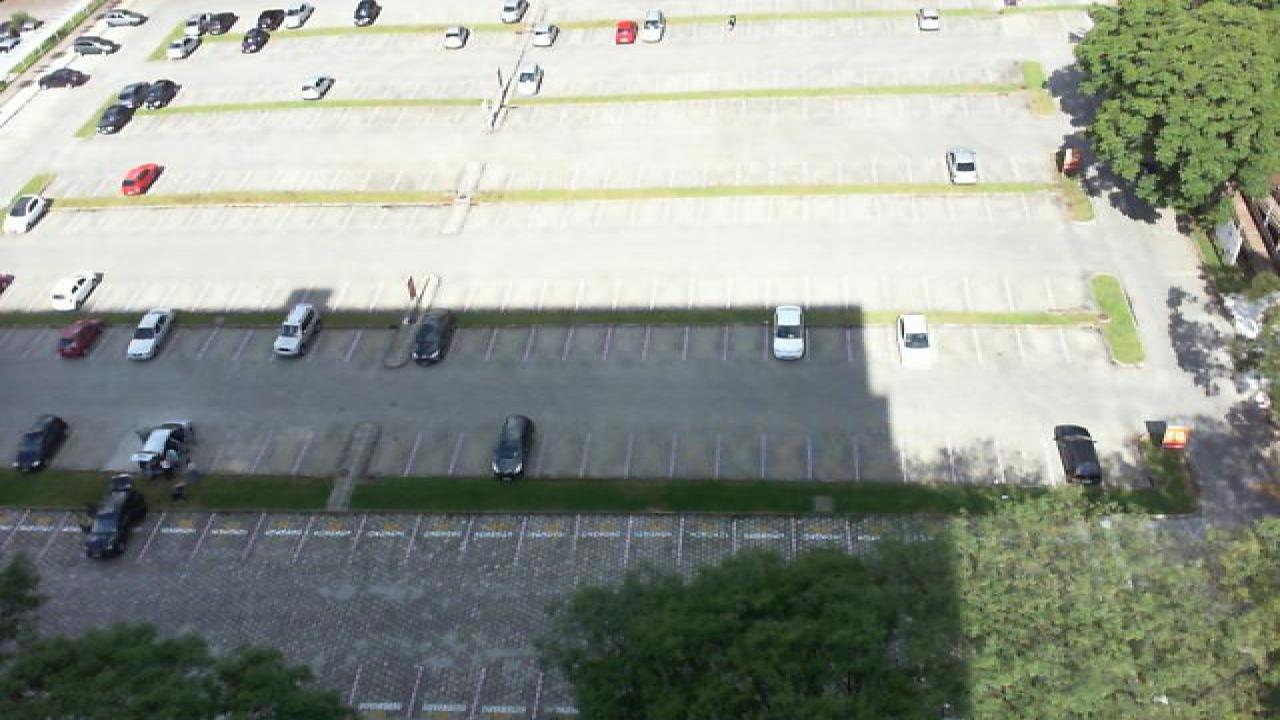Car: (84, 481, 146, 560), (132, 422, 194, 481), (1052, 423, 1106, 487), (12, 415, 68, 474), (270, 300, 324, 356), (490, 414, 536, 479), (126, 307, 178, 360), (408, 310, 456, 366), (4, 190, 54, 236), (48, 272, 104, 313), (768, 305, 808, 361), (56, 317, 108, 359), (896, 313, 934, 368), (118, 162, 162, 197), (944, 148, 980, 185), (98, 103, 138, 135), (146, 81, 180, 117), (114, 80, 154, 109), (190, 11, 238, 34), (168, 29, 204, 58), (1054, 145, 1086, 177), (38, 68, 88, 88), (516, 61, 546, 94), (640, 9, 668, 44), (298, 75, 336, 100), (72, 35, 118, 55), (98, 10, 148, 28), (240, 27, 274, 53), (282, 2, 316, 28), (246, 8, 284, 31), (1162, 424, 1192, 452), (352, 0, 382, 27), (442, 24, 472, 50), (530, 22, 558, 48), (498, 0, 530, 22), (916, 7, 944, 32), (614, 19, 640, 45)
